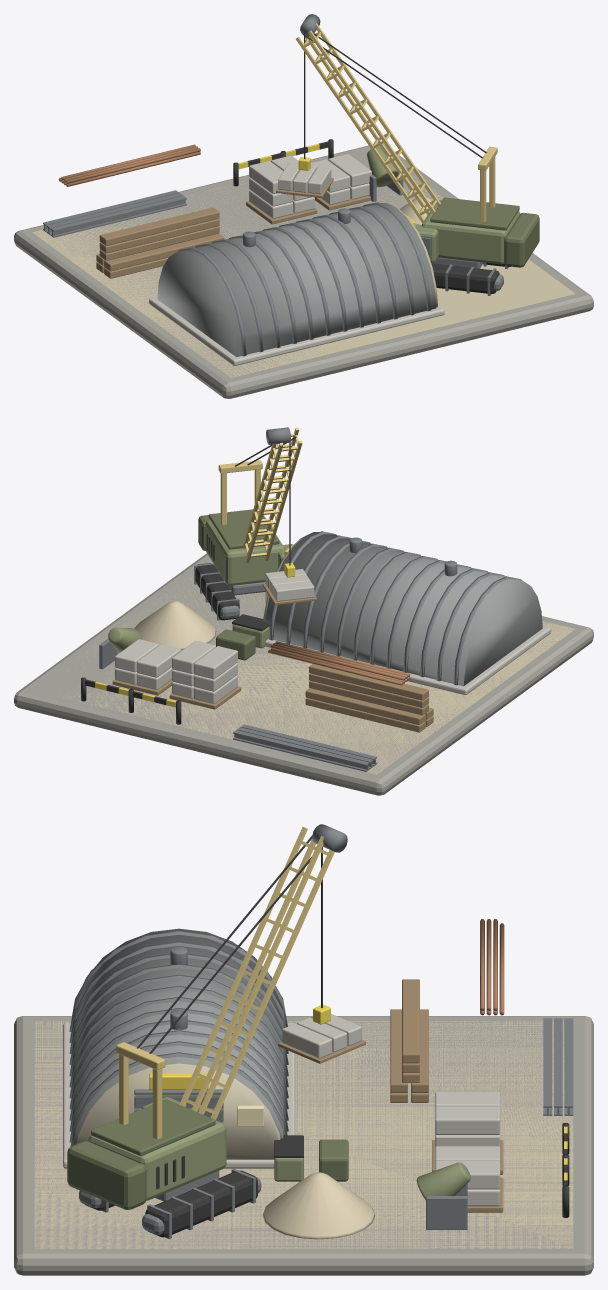
The model's file is builder_1.glb.
3 views of the same model, one above another, from view 1: azimuth 30°, elevation 25°; view 2: azimuth 150°, elevation 25°; view 3: azimuth 270°, elevation 25° (orthographic). The views are drawn at different scales.
Visible parts, largest first — view 1: Cube, Cylinder, Cube.001, Cube.002, Cube.028, Cube.029, Cube.115, Cube.034, Cube.019, Cube.111, Cube.044, Cube.042 (+29 smaller); view 2: Cube, Cylinder, Cube.001, Cone, Cube.028, Cube.002, Cube.115, Cube.112, Cube.029, Cube.011, Cube.100, Cube.110 (+28 smaller); view 3: Cube, Cube.001, Cylinder, Cone, Cylinder.013, Cube.028, Cube.034, Cube.029, Cube.011, Cube.002, Cube.043, Cube.103 (+42 smaller).
Part boxes in pixels (<box>): Cube: <box>14,143,593,398</box>; Cylinder: <box>157,203,436,357</box>; Cube.001: <box>32,158,575,377</box>; Cube.002: <box>149,297,444,365</box>; Cube.028: <box>421,200,519,264</box>; Cube.029: <box>430,197,519,230</box>; Cube.115: <box>99,207,219,245</box>; Cube.034: <box>504,212,539,267</box>; Cube.019: <box>431,263,499,293</box>; Cube.111: <box>104,233,224,271</box>; Cube.044: <box>308,30,435,213</box>; Cube.042: <box>296,37,424,222</box>; Cube: <box>14,553,593,795</box>; Cylinder: <box>265,532,542,686</box>; Cube.001: <box>58,560,575,774</box>; Cone: <box>134,601,216,649</box>; Cube.028: <box>205,515,285,585</box>; Cube.002: <box>265,626,551,694</box>; Cube.115: <box>309,664,428,700</box>; Cube.112: <box>305,688,425,724</box>; Cube.029: <box>208,509,279,549</box>; Cube.011: <box>195,563,239,620</box>; Cube.100: <box>194,646,237,679</box>; Cube.110: <box>305,698,425,732</box>; Cube: <box>14,1016,593,1275</box>; Cube.001: <box>34,1021,573,1248</box>; Cylinder: <box>73,928,283,1145</box>; Cone: <box>262,1172,375,1239</box>; Cylinder.013: <box>77,1063,280,1159</box>; Cube.028: <box>88,1120,226,1200</box>; Cube.034: <box>67,1141,146,1209</box>; Cube.029: <box>91,1099,215,1155</box>; Cube.011: <box>145,1170,257,1237</box>; Cube.002: <box>63,1023,294,1168</box>; Cube.043: <box>198,835,323,1114</box>; Cube.103: <box>435,1106,500,1134</box>.
Bounding box in the file's own units: 1.95 × 1.25 × 1.95.
